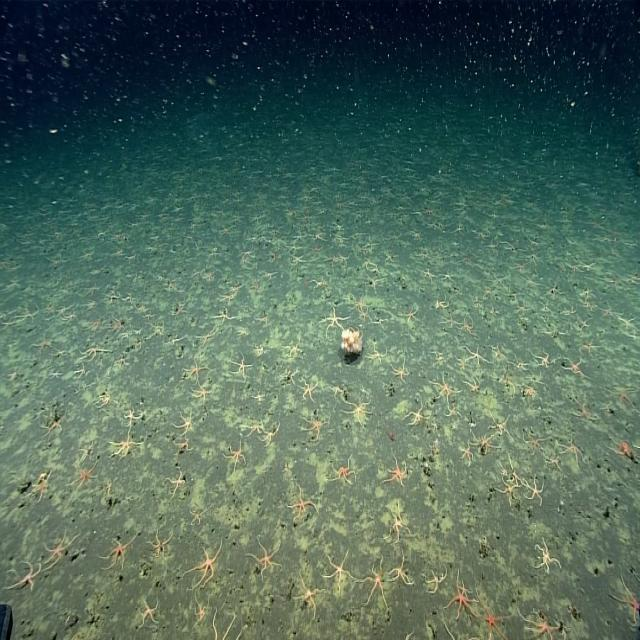brittle-stars: (476, 585, 514, 640), (186, 543, 224, 588), (611, 570, 640, 628), (522, 607, 570, 640), (447, 570, 476, 624), (359, 554, 388, 608), (44, 527, 78, 570), (249, 536, 284, 575), (10, 557, 45, 596), (323, 548, 354, 590), (102, 534, 136, 572), (294, 572, 322, 618), (382, 501, 413, 542), (606, 433, 640, 465), (288, 482, 318, 518), (533, 536, 559, 576), (110, 430, 143, 460), (70, 458, 100, 491), (430, 371, 460, 404), (389, 548, 413, 588), (422, 558, 447, 596), (212, 610, 243, 640), (30, 467, 55, 504), (343, 398, 372, 429), (382, 453, 408, 487), (331, 455, 358, 487), (559, 435, 583, 471), (303, 410, 330, 440), (136, 594, 159, 629), (148, 531, 172, 564), (567, 392, 592, 423), (523, 473, 545, 508), (520, 429, 548, 456), (41, 410, 66, 440), (223, 440, 246, 472), (496, 476, 520, 505), (231, 352, 253, 383), (443, 623, 483, 640), (324, 306, 350, 332), (182, 356, 207, 383), (488, 410, 512, 438), (605, 386, 636, 407), (9, 305, 41, 325), (406, 402, 430, 428), (390, 353, 410, 384), (463, 344, 487, 369), (474, 430, 498, 455), (167, 469, 188, 497), (561, 353, 584, 378), (175, 407, 196, 434), (195, 325, 220, 347), (530, 347, 552, 371), (300, 377, 320, 403), (282, 337, 304, 360), (261, 422, 281, 447), (82, 343, 109, 361), (192, 383, 214, 405), (459, 438, 475, 468), (32, 334, 56, 354), (74, 440, 92, 466), (366, 343, 386, 366), (96, 387, 116, 410), (124, 406, 144, 429), (243, 417, 264, 438), (188, 505, 207, 528), (463, 375, 483, 396), (212, 309, 236, 326), (192, 602, 209, 625), (278, 367, 298, 386), (172, 436, 194, 453), (490, 344, 507, 366), (443, 310, 460, 331), (404, 303, 422, 322), (84, 280, 103, 298), (108, 313, 125, 332), (577, 296, 597, 312), (363, 275, 385, 289), (460, 315, 474, 336), (112, 316, 128, 334), (54, 303, 74, 317), (121, 289, 138, 305), (171, 300, 188, 316), (239, 245, 255, 262), (84, 319, 100, 336), (512, 260, 530, 275), (372, 313, 390, 328), (600, 307, 622, 319), (420, 268, 436, 284), (442, 269, 458, 285), (352, 293, 367, 310), (619, 316, 636, 331), (288, 252, 306, 266), (44, 256, 66, 267), (509, 359, 529, 371), (114, 352, 128, 368), (520, 386, 536, 400), (445, 405, 462, 418), (332, 233, 349, 246), (60, 312, 78, 324), (436, 296, 450, 311), (326, 254, 340, 269), (382, 247, 394, 263), (309, 232, 328, 242), (358, 308, 370, 323), (308, 244, 324, 255), (261, 270, 278, 280), (74, 365, 86, 379), (330, 384, 344, 396), (255, 346, 270, 357), (430, 350, 443, 362), (249, 282, 262, 294), (219, 293, 232, 305), (220, 225, 232, 238), (107, 290, 119, 303), (308, 280, 324, 289), (269, 251, 281, 263), (200, 272, 214, 282), (50, 370, 64, 380), (414, 250, 428, 260), (252, 392, 266, 402), (235, 329, 250, 338), (274, 237, 286, 248), (403, 628, 414, 640), (362, 258, 375, 268), (83, 300, 96, 310), (600, 401, 611, 412), (338, 252, 350, 262), (56, 347, 66, 358), (294, 233, 306, 242), (255, 317, 268, 325), (230, 284, 243, 292), (143, 312, 154, 321), (370, 266, 382, 274), (412, 230, 421, 240), (136, 304, 146, 312)
